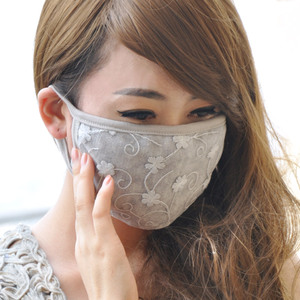face_mask: (79, 38, 224, 221)
